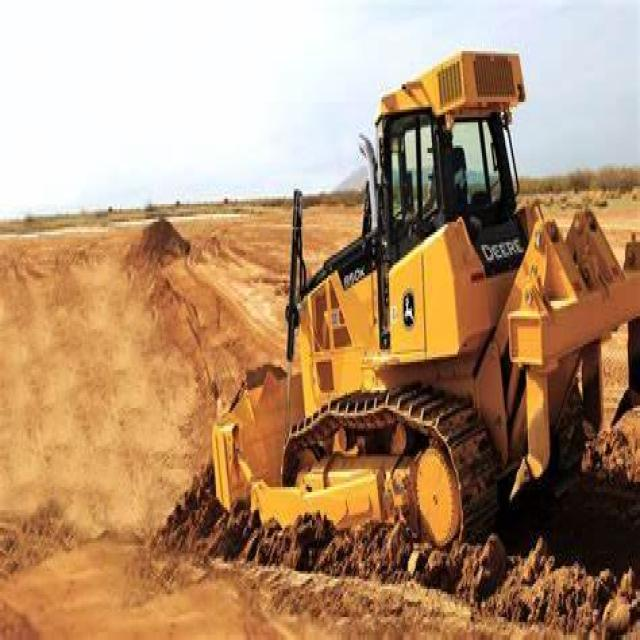buldozerpayloadergrader: (168, 48, 616, 602)
